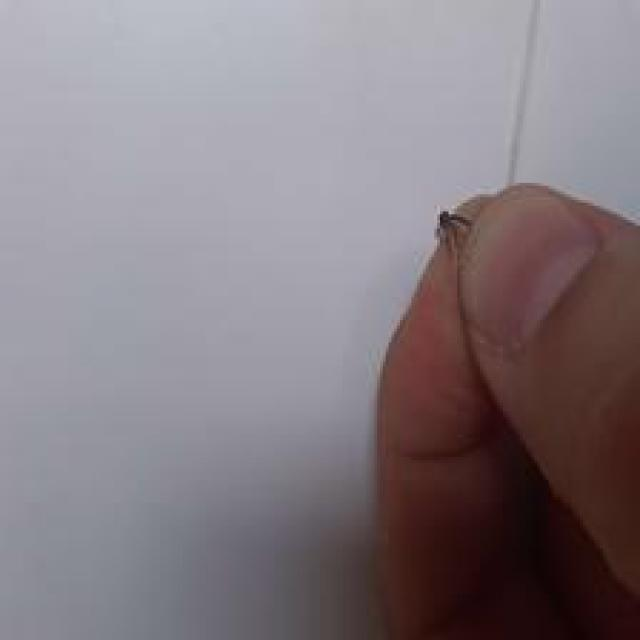Aedes albopictus: (433, 207, 473, 256)
